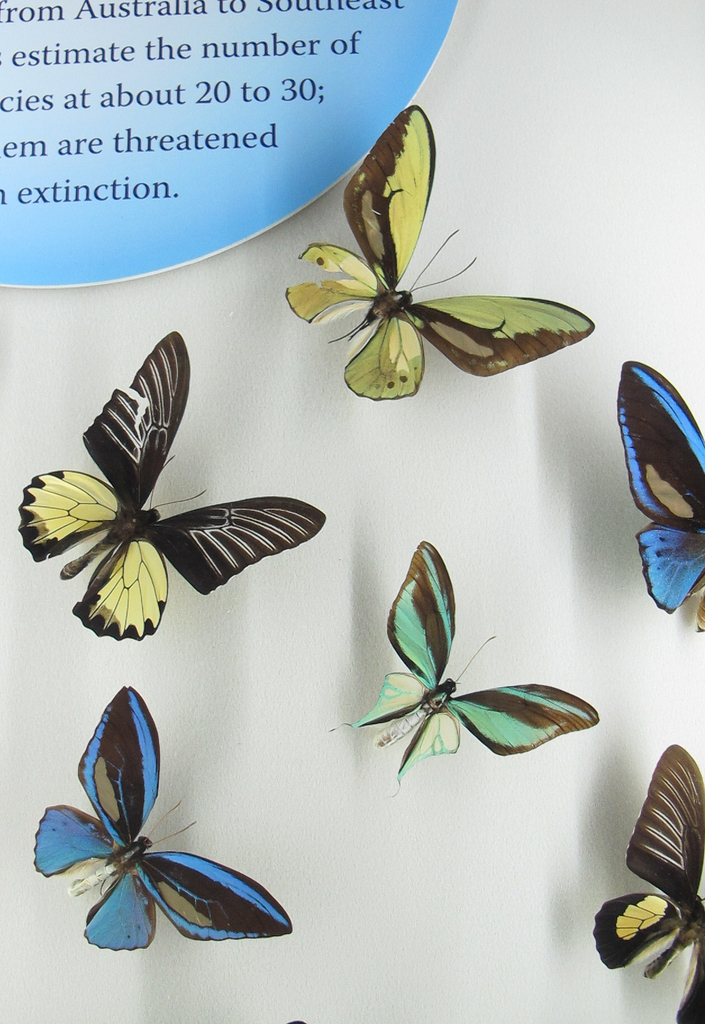Butterfly: (9, 334, 329, 665), (272, 117, 599, 427), (29, 660, 344, 962), (366, 533, 613, 806), (592, 330, 705, 669), (591, 745, 705, 1024)
